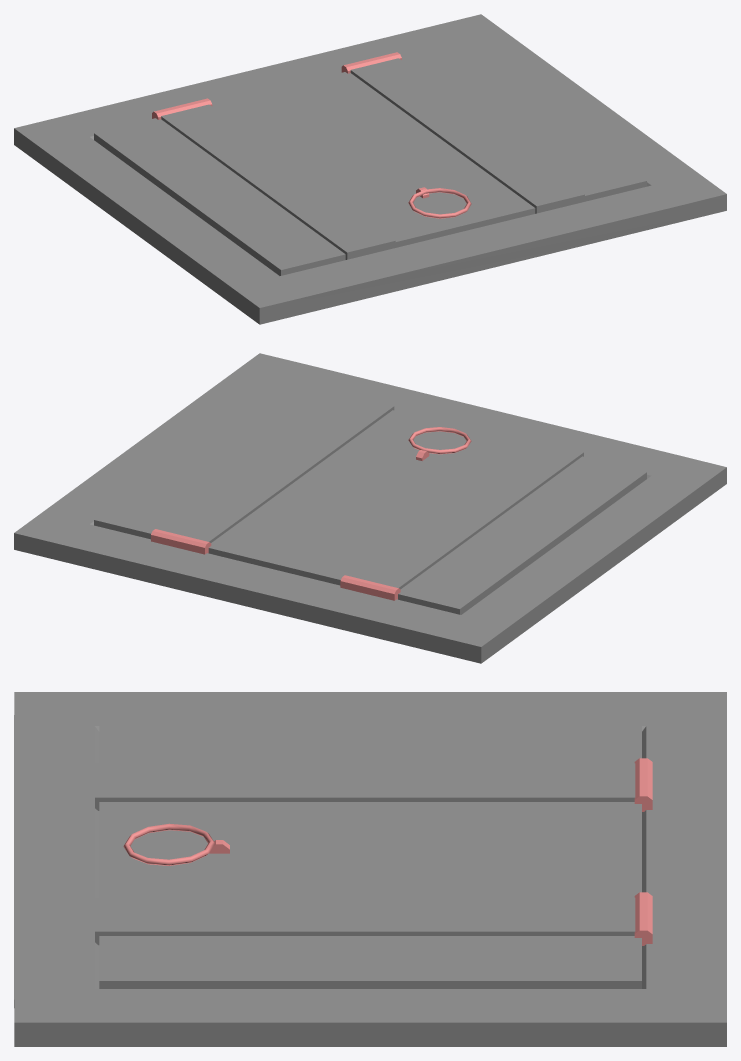
The model's file is Woods_Cabin_TrapDoor.gltf.
3 views of the same model, one above another, from view 1: azimuth 30°, elevation 25°; view 2: azimuth 150°, elevation 25°; view 3: azimuth 270°, elevation 25° (orthographic). The views are drawn at different scales.
Parts seen in each view (by area): view 1: Woods_Cabin_TrapDoor; view 2: Woods_Cabin_TrapDoor; view 3: Woods_Cabin_TrapDoor.
Boxes of the visible parts, x1,y1,x2,y2 form: Woods_Cabin_TrapDoor: (14, 14, 726, 324); Woods_Cabin_TrapDoor: (14, 353, 726, 663); Woods_Cabin_TrapDoor: (14, 692, 726, 1046).
Bounding box in the file's own units: 1.11 × 0.0644 × 1.01.
